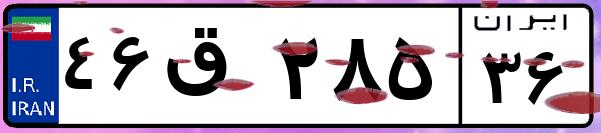2: (270, 28, 330, 110)
3: (475, 38, 525, 113)
4: (57, 26, 110, 100)
5: (385, 28, 445, 110)
6: (525, 38, 570, 115), (110, 28, 158, 98)
8: (330, 28, 385, 110)
ق: (158, 20, 270, 120)
